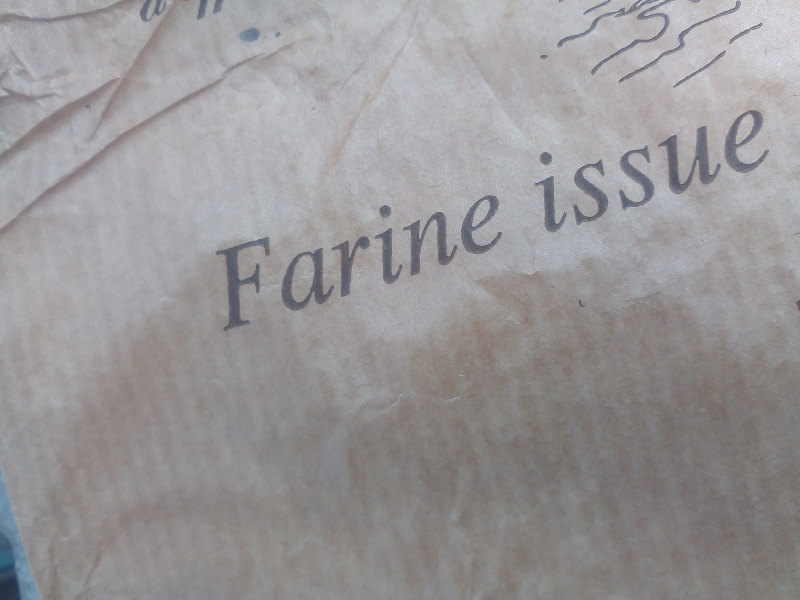text: (225, 176, 240, 335), (241, 176, 256, 335), (257, 176, 272, 335), (273, 176, 288, 335), (289, 176, 304, 335), (305, 176, 320, 335), (321, 176, 336, 335), (337, 176, 352, 335), (353, 176, 368, 335), (369, 176, 384, 335), (385, 176, 400, 335), (401, 176, 416, 335), (417, 176, 432, 335), (433, 176, 448, 335), (449, 176, 464, 335), (465, 176, 480, 335), (481, 176, 496, 335), (529, 105, 544, 238), (545, 105, 560, 238), (561, 105, 576, 238), (577, 105, 592, 238), (593, 105, 608, 238), (609, 105, 624, 238), (625, 105, 640, 238), (641, 105, 656, 238), (657, 105, 672, 238), (673, 105, 688, 238), (689, 105, 704, 238), (705, 105, 720, 238), (721, 105, 736, 238), (737, 105, 752, 238), (753, 105, 768, 238), (213, 176, 224, 335), (497, 176, 507, 335), (145, 1, 160, 23), (161, 1, 168, 23), (769, 105, 770, 238), (141, 1, 144, 23)
